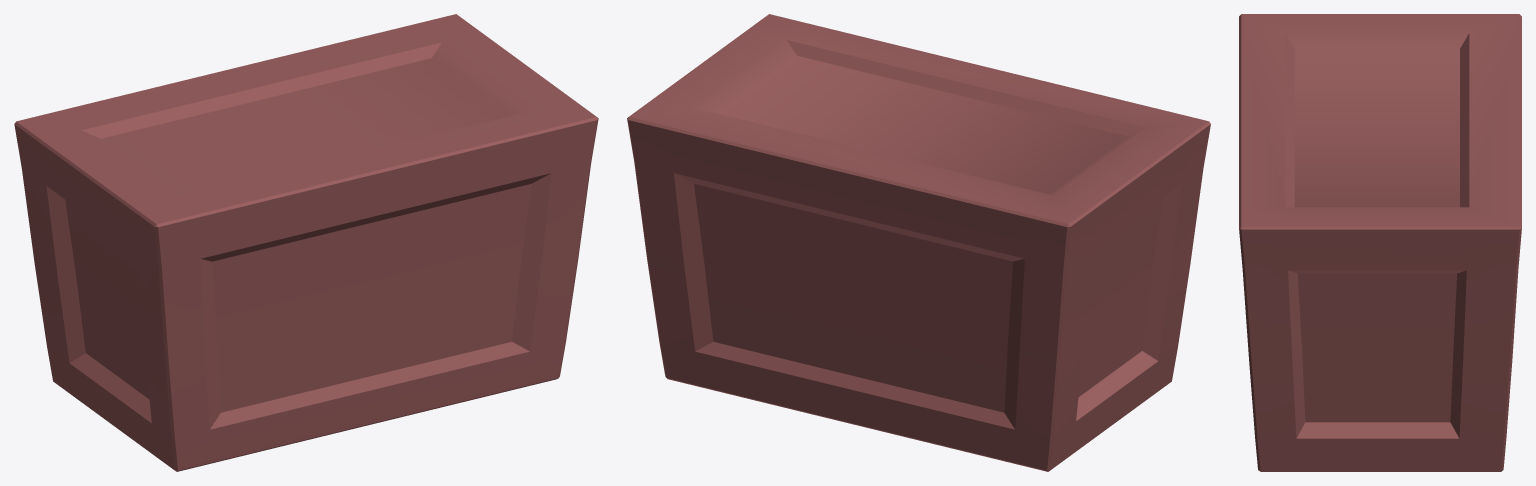
3 renders of one model, left to right at view 1: azimuth 30°, elevation 25°; view 2: azimuth 150°, elevation 25°; view 3: azimuth 270°, elevation 25°, orthographic.
Parts seen in each view (by area): view 1: box_B; view 2: box_B; view 3: box_B.
Part boxes in pixels (x1,y1,x2,y2): box_B: (14, 14, 598, 471); box_B: (627, 14, 1210, 471); box_B: (1239, 14, 1521, 471).
Size of the model in its own units: 2.87 by 1.62 by 1.6.
